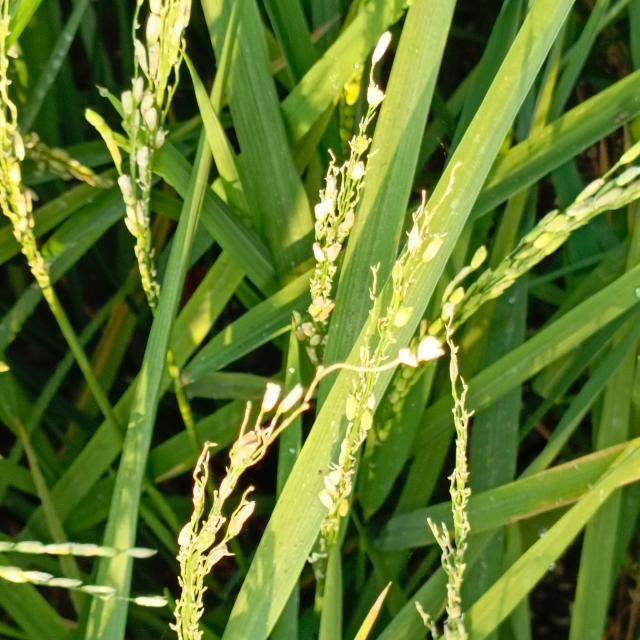Brown spot: (504, 462, 563, 529), (566, 441, 624, 502), (346, 578, 396, 640)
insects: (314, 464, 327, 482)
